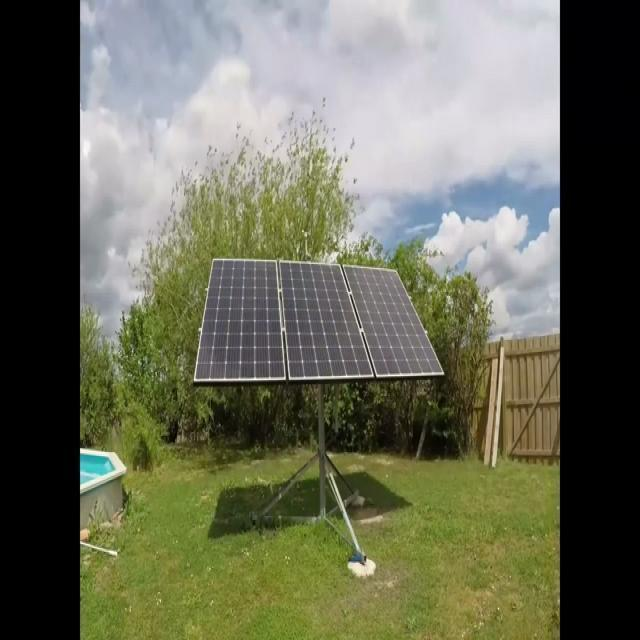Normal Solar Panel: (345, 265, 444, 379), (195, 260, 286, 383), (281, 261, 374, 381)
